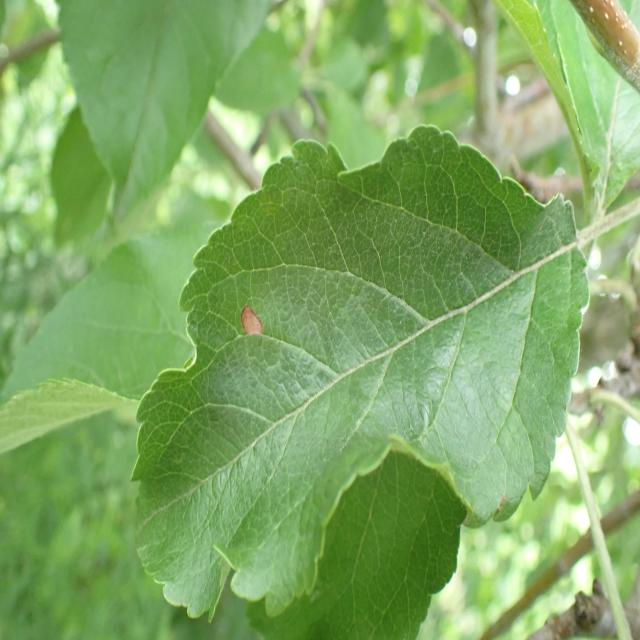Black Rot: (238, 284, 264, 358)
